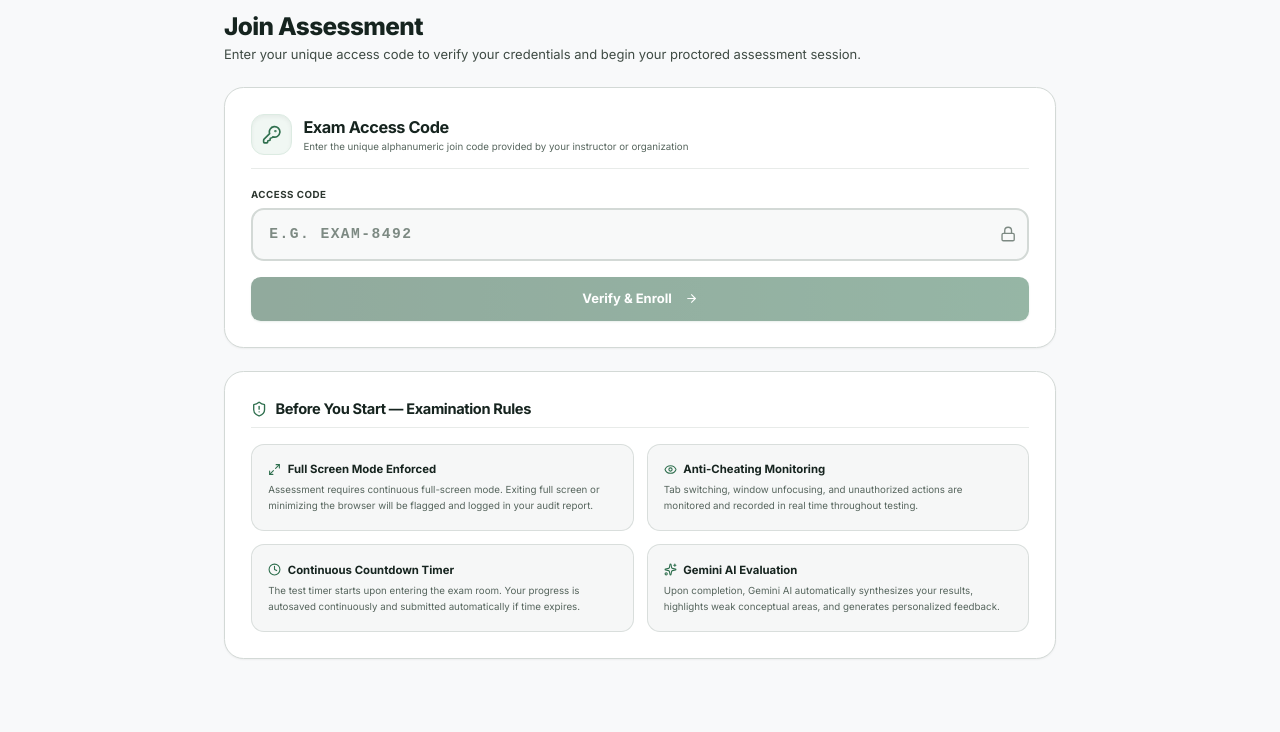
Test: Batch 1: Comprehensive Candidate Portal Tests › Join Assessment Scenarios › handles join code server timeout or 500 error gracefully
The width and height of the screenshot is (1280, 732).
Step 1. Type "ERRCODE" into the field with placeholder "e.g. EXAM-8492" → [640, 234], box [251, 208, 1029, 261]
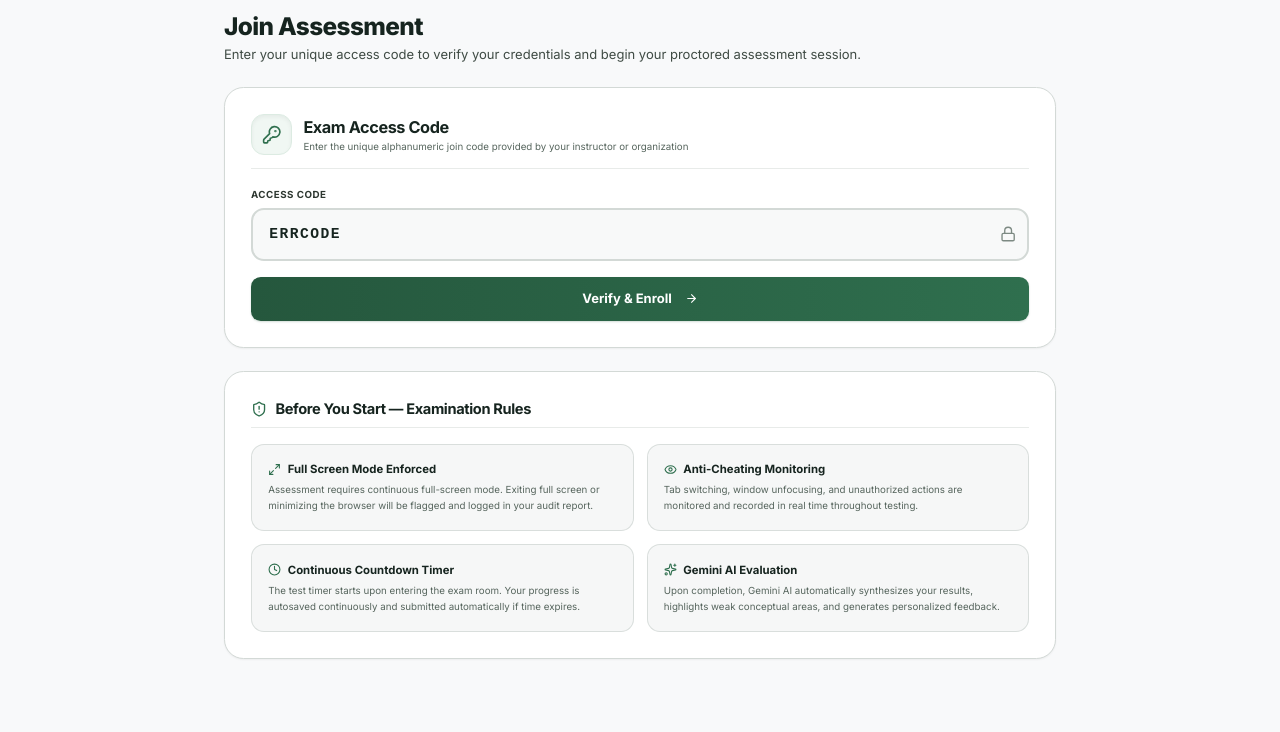
Step 2. Submit the form with placeholder "e.g. EXAM-8492", box [251, 188, 1029, 321]
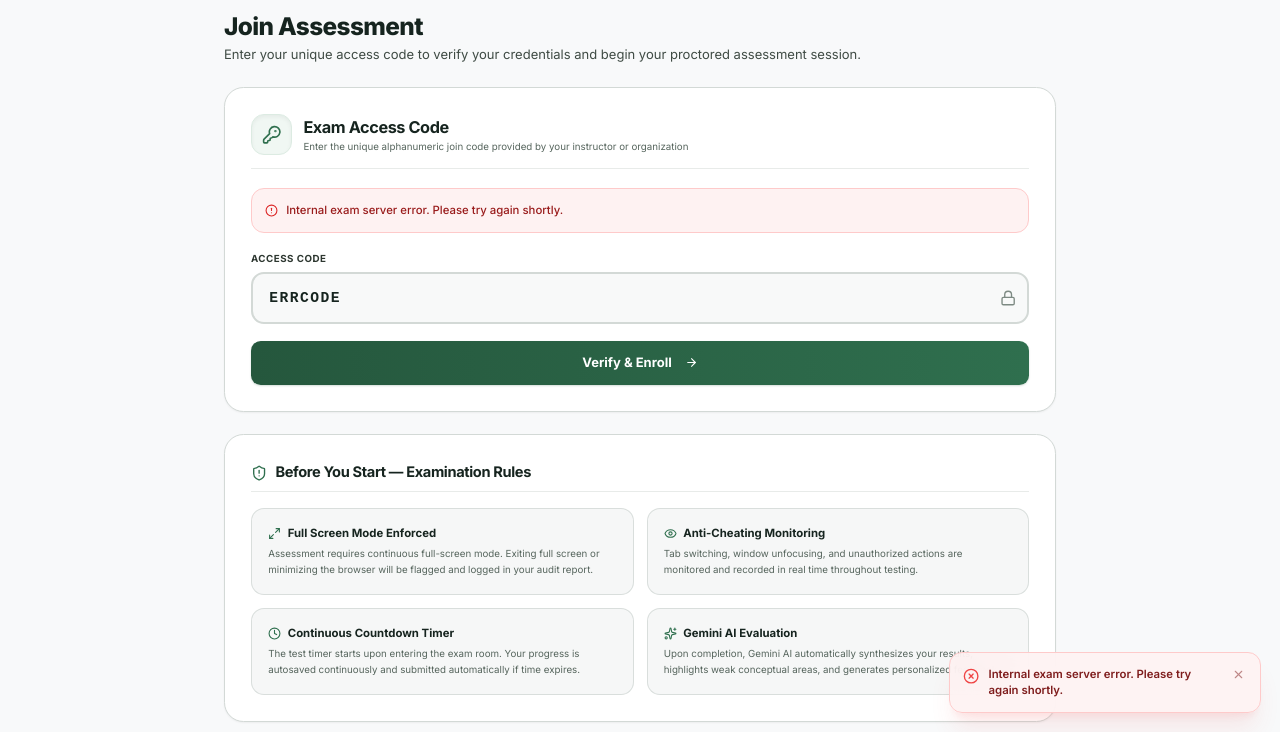
expect the text "Internal exam server error. Please try again shortly." below "Exam Access Code" is shown: met, box [286, 203, 563, 217]
